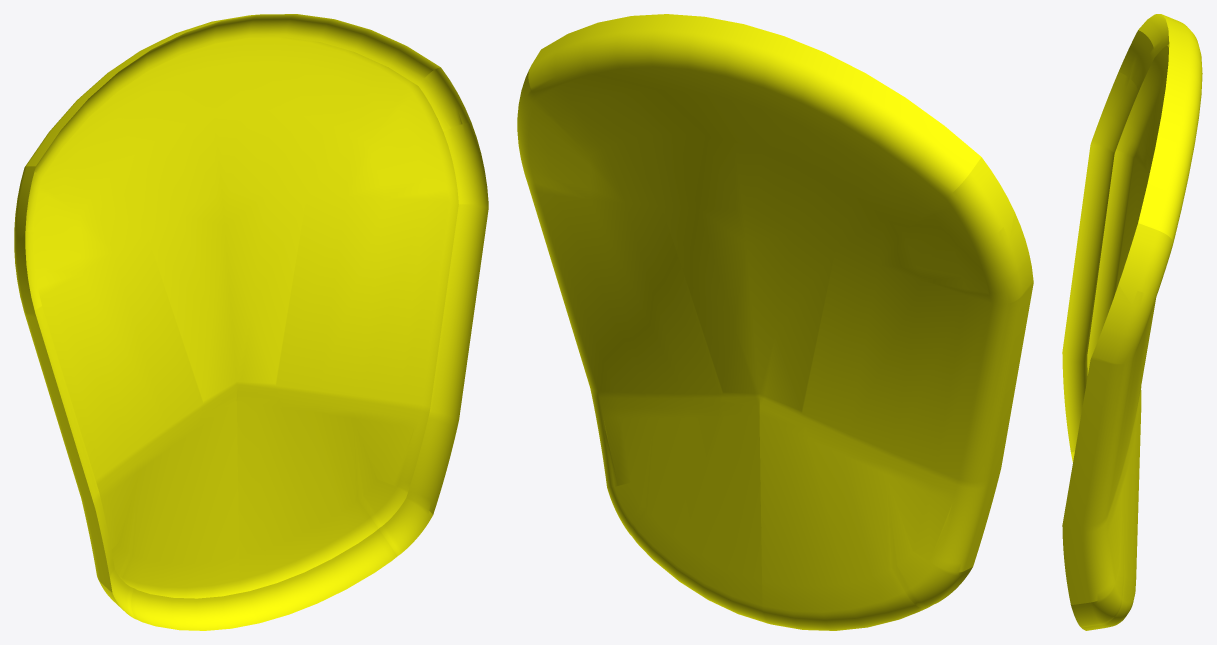
File: original-1.obj
The picture shows the model from 3 angles, left to right: view 1: azimuth 30°, elevation 25°; view 2: azimuth 150°, elevation 25°; view 3: azimuth 270°, elevation 25°; orthographic projection. The views are drawn at different scales.
Parts seen in each view (by area): view 1: Group2/mesh1/mesh1-geometry#mesh1-geometry; view 2: Group2/mesh1/mesh1-geometry#mesh1-geometry; view 3: Group2/mesh1/mesh1-geometry#mesh1-geometry.
Part boxes in pixels (box(x1,y1,x2,y2)): Group2/mesh1/mesh1-geometry#mesh1-geometry: box(14, 14, 488, 630); Group2/mesh1/mesh1-geometry#mesh1-geometry: box(517, 14, 1033, 630); Group2/mesh1/mesh1-geometry#mesh1-geometry: box(1062, 14, 1202, 630).
Size of the model in its own units: 0.7368 by 0.8874 by 0.2007.
